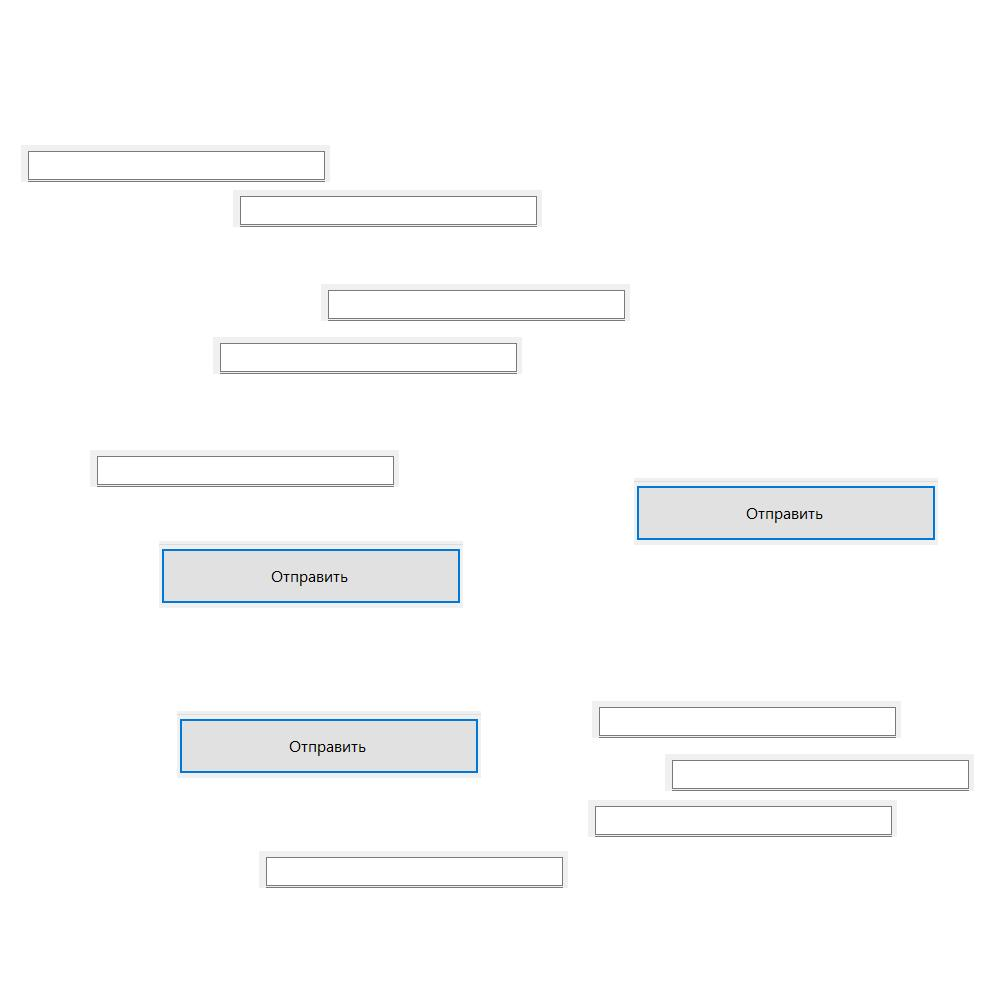Button: (634, 478, 938, 545), (159, 541, 463, 608), (177, 711, 481, 778)
EditText-: (321, 284, 630, 321), (259, 851, 568, 888), (588, 800, 897, 837), (592, 701, 901, 738), (665, 754, 974, 791), (21, 145, 330, 182), (213, 337, 522, 374), (90, 450, 399, 487), (233, 190, 542, 227)
